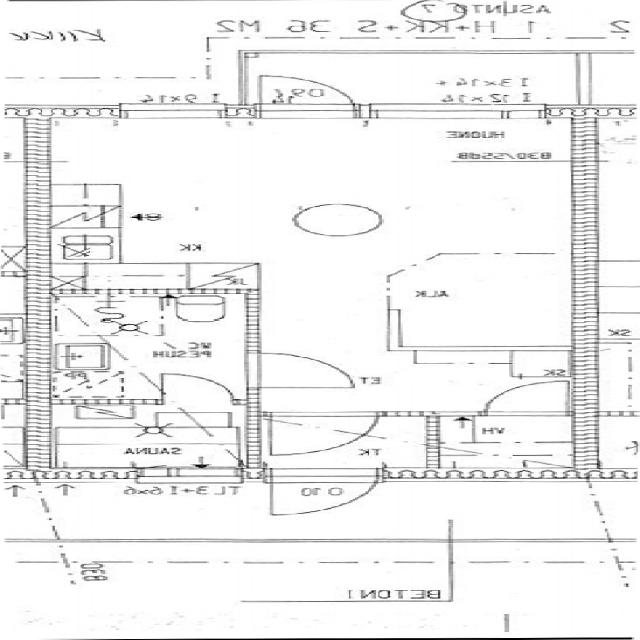door: (272, 468, 379, 522), (271, 411, 377, 455), (262, 70, 356, 118), (248, 353, 355, 388), (487, 381, 568, 416), (162, 373, 235, 404)
